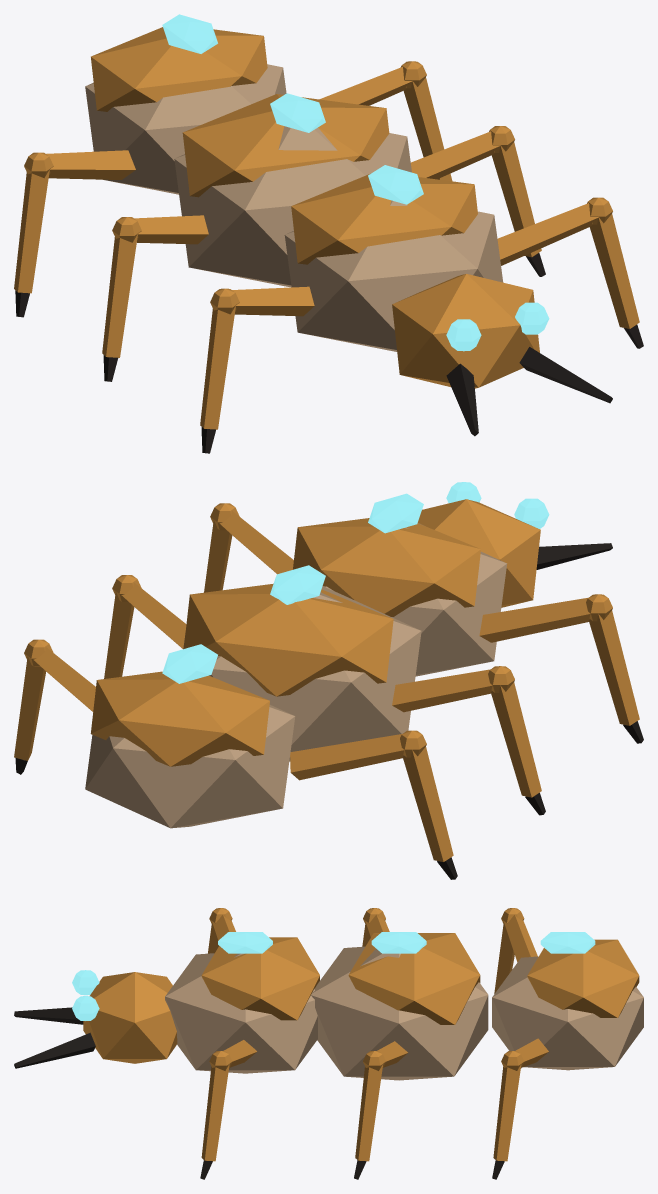
Rendered from exo-wild-crawler.glb.
The picture shows the model from 3 angles, top to bottom: view 1: azimuth 30°, elevation 25°; view 2: azimuth 150°, elevation 25°; view 3: azimuth 270°, elevation 25°; orthographic projection. The views are drawn at different scales.
Visible parts, largest first — view 1: body; view 2: body; view 3: body.
Part boxes in pixels (x1=…): body: x1=14, y1=14, x2=643, y2=453; body: x1=14, y1=482, x2=643, y2=879; body: x1=14, y1=908, x2=643, y2=1179.
Bounding box in the file's own units: 1.29 × 0.5893 × 2.05.
